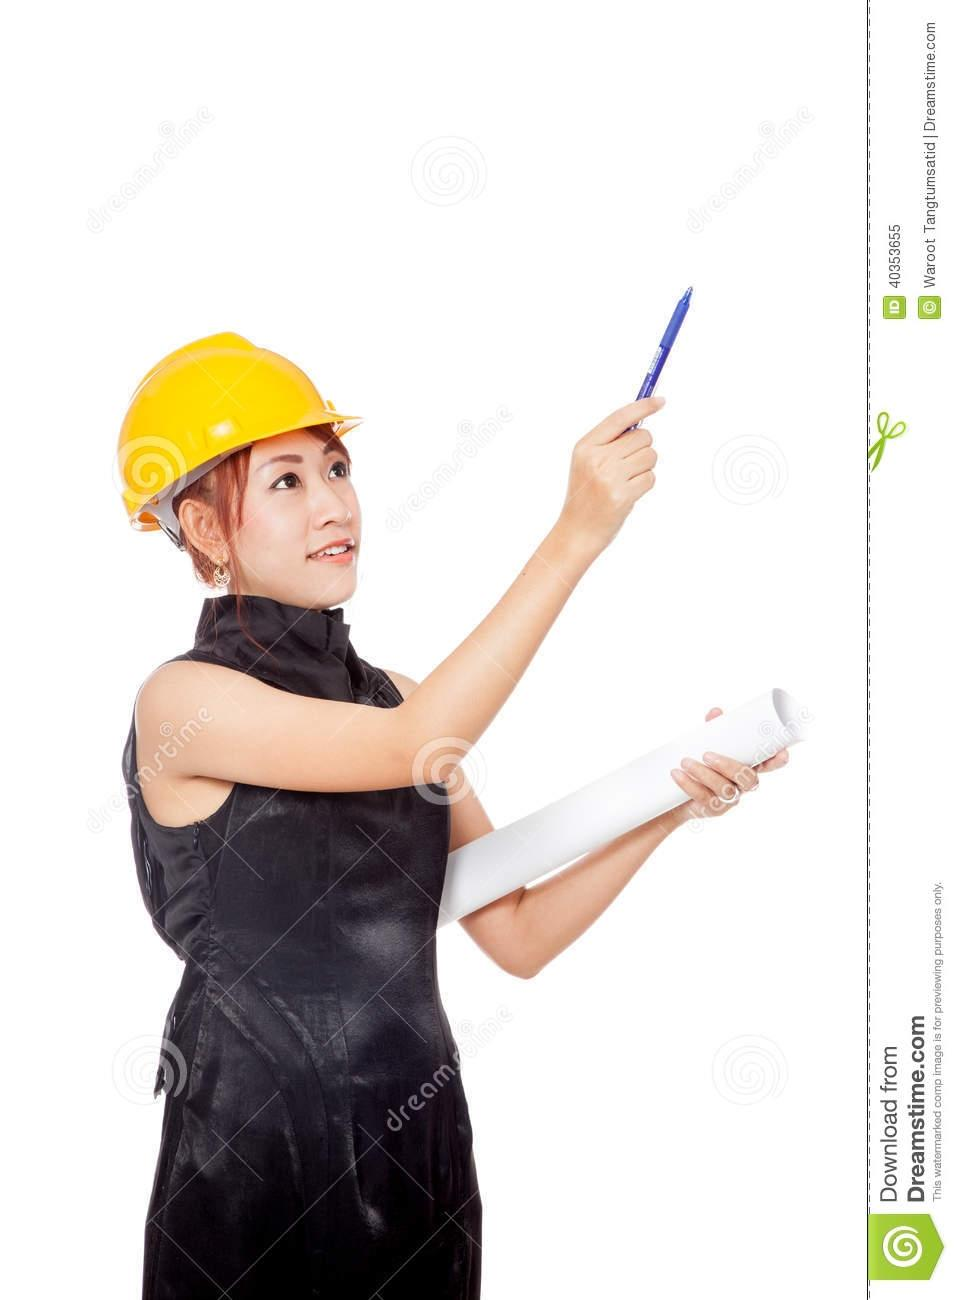helmet: (106, 329, 364, 522)
no_wear: (126, 647, 456, 1008)
